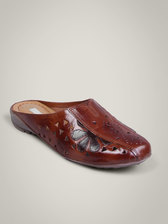shoes: (10, 88, 156, 169)
